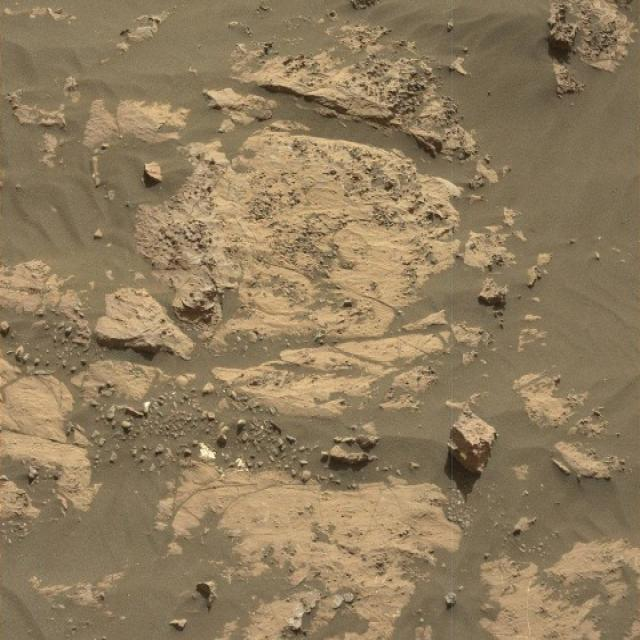mars-rocks: (449, 411, 497, 474)
